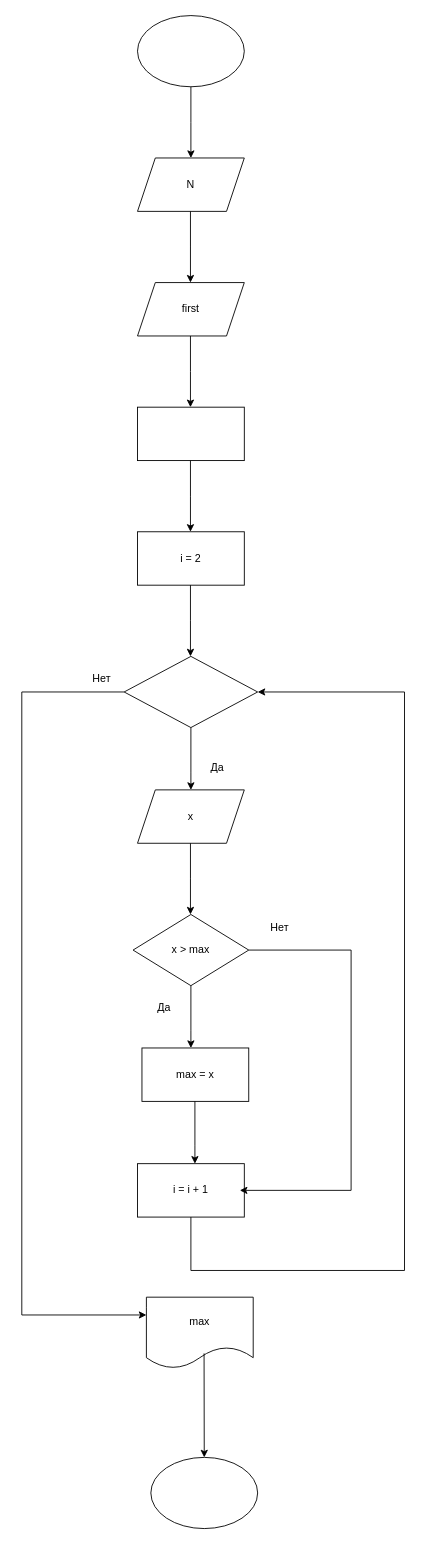
This 427x1544 diagram has some shape labels left out. Here are the shapes that lost their labels. From the top down, the centre of each, then its label:
(x=190, y=51): начало
(x=190, y=433): max = first
(x=190, y=691): i <= N
(x=204, y=1492): конец
